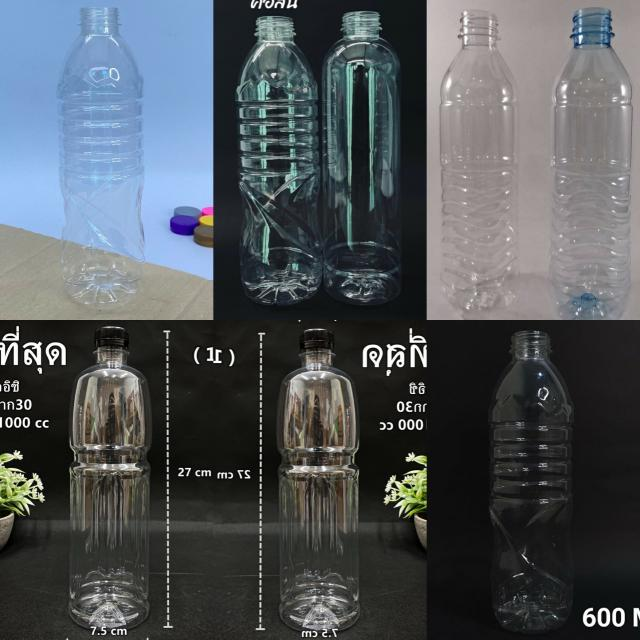plastik: (58, 8, 145, 304), (549, 8, 632, 318), (489, 332, 574, 633), (236, 16, 322, 305), (278, 329, 360, 630), (70, 327, 151, 628), (440, 11, 519, 311), (322, 11, 401, 305)
